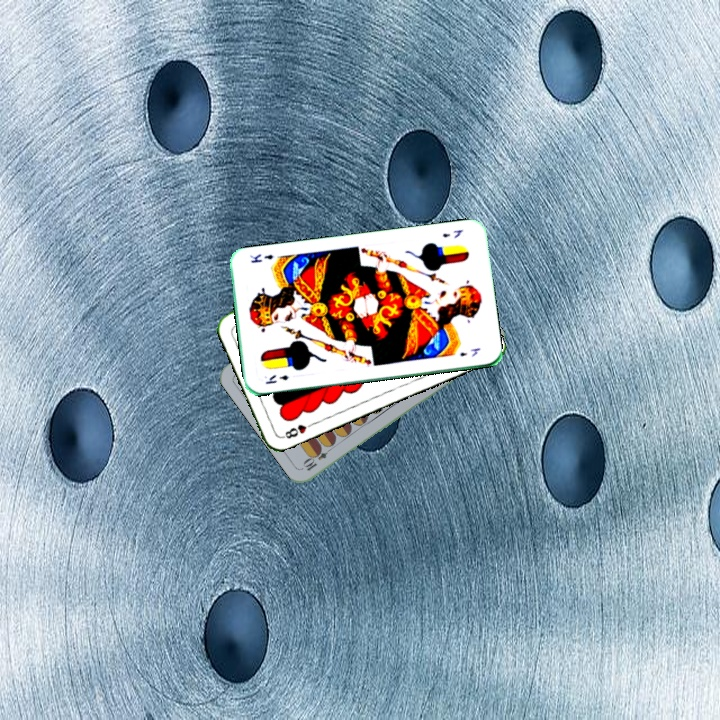E10: (299, 442, 336, 473)
EK: (261, 370, 291, 387), (439, 226, 466, 241)
H8: (278, 419, 316, 441)
